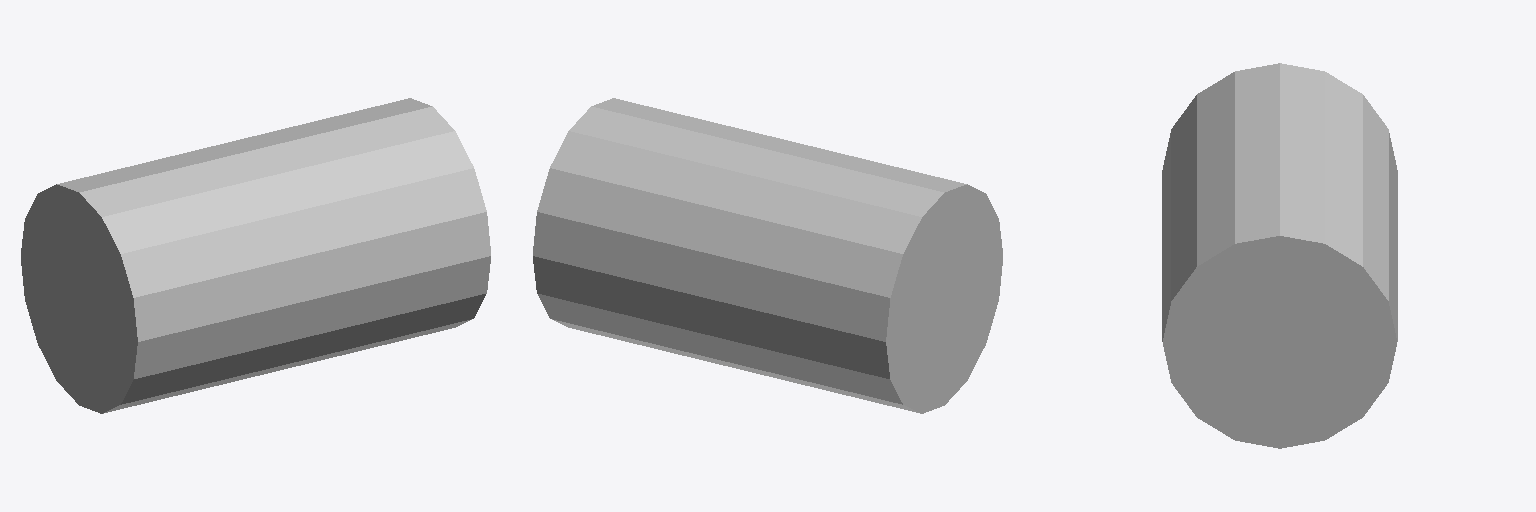
Rendered from steel_round.obj.
3 renders of one model, left to right at view 1: azimuth 30°, elevation 25°; view 2: azimuth 150°, elevation 25°; view 3: azimuth 270°, elevation 25°, orthographic.
Parts seen in each view (by area): view 1: __; view 2: __; view 3: __.
Boxes of the visible parts, x1,y1,x2,y2 form: __: [21, 98, 490, 413]; __: [533, 98, 1002, 413]; __: [1162, 63, 1397, 448].
Size of the model in its own units: 31.05 by 17.88 by 17.88.